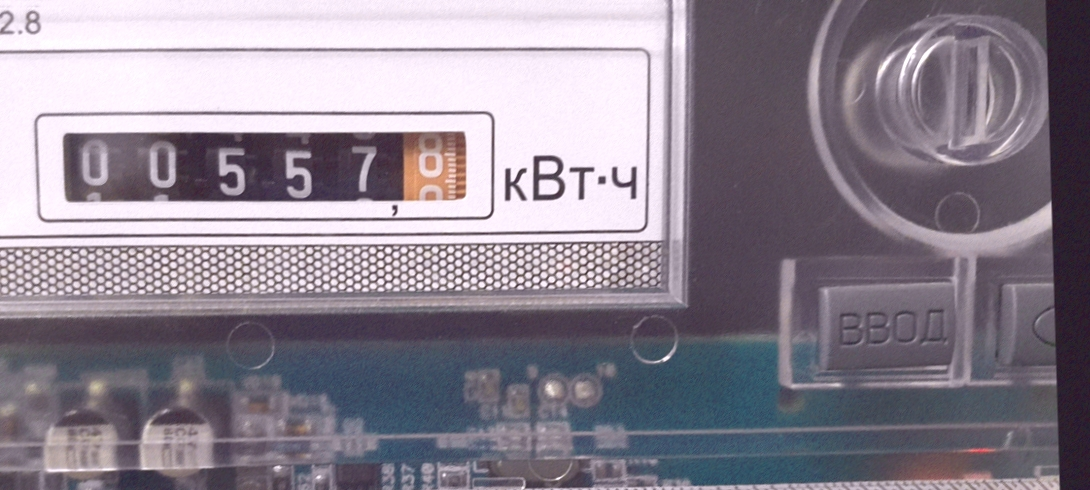0: (77, 135, 113, 192), (145, 138, 180, 191)
5: (279, 144, 319, 203), (213, 143, 249, 201)
7: (345, 141, 379, 197)
8: (416, 132, 445, 182)
screen: (30, 94, 502, 239)
